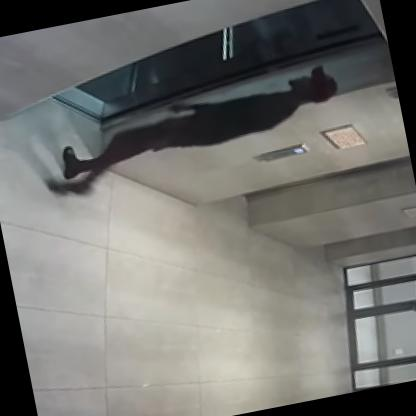Human Body: (36, 66, 350, 204)
